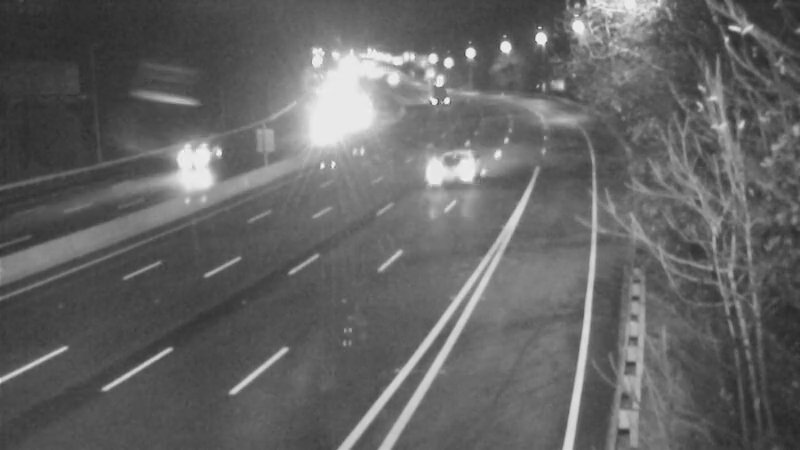vehicle: (412, 121, 492, 201), (149, 123, 229, 203), (402, 68, 452, 118), (294, 108, 344, 158)
